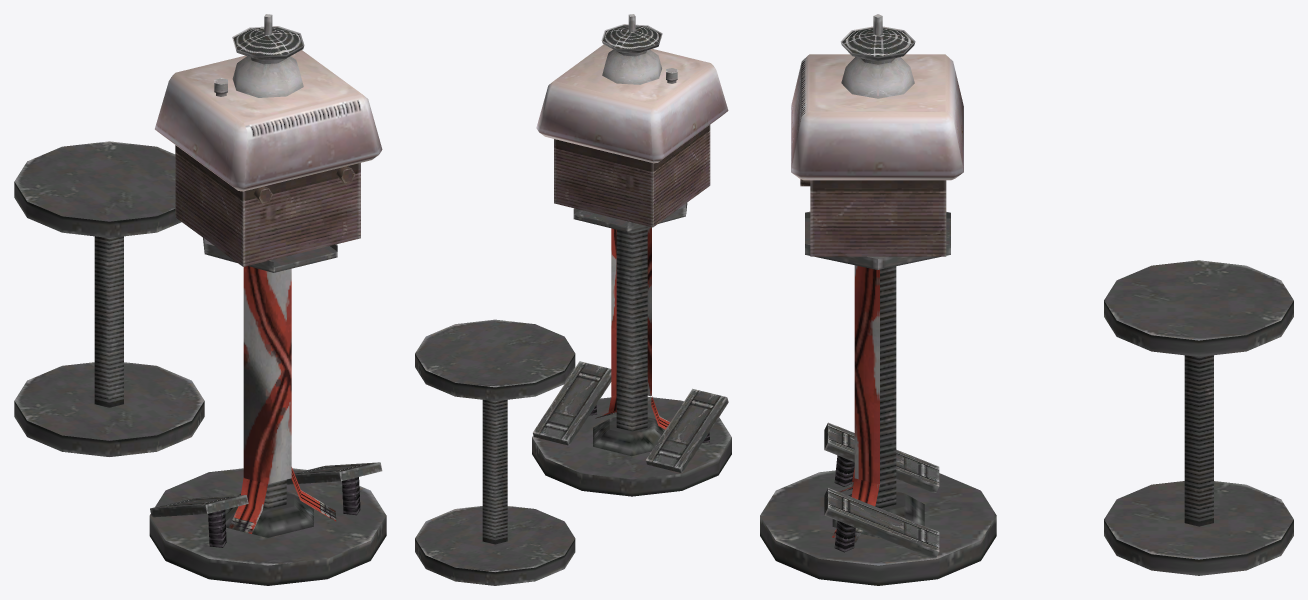
File: eqp_music_ommni_box_l0.fbx
3 renders of one model, left to right at view 1: azimuth 30°, elevation 25°; view 2: azimuth 150°, elevation 25°; view 3: azimuth 270°, elevation 25°, orthographic. The views are drawn at different scales.
Parts seen in each view (by area): view 1: mesh_node; view 2: mesh_node; view 3: mesh_node.
Boxes of the visible parts, x1,y1,x2,y2 form: mesh_node: [14, 14, 386, 585]; mesh_node: [415, 14, 731, 585]; mesh_node: [760, 14, 1293, 585].
Bounding box in the file's own units: 0.3882 × 0.9406 × 0.8754.
